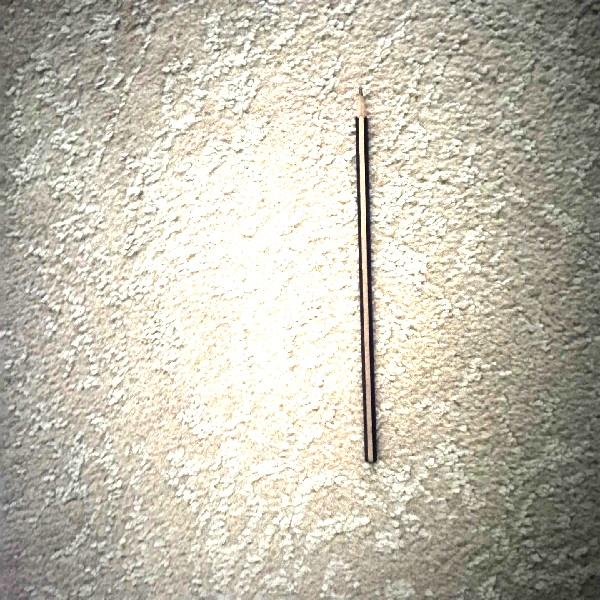pencil: (349, 86, 388, 466)
